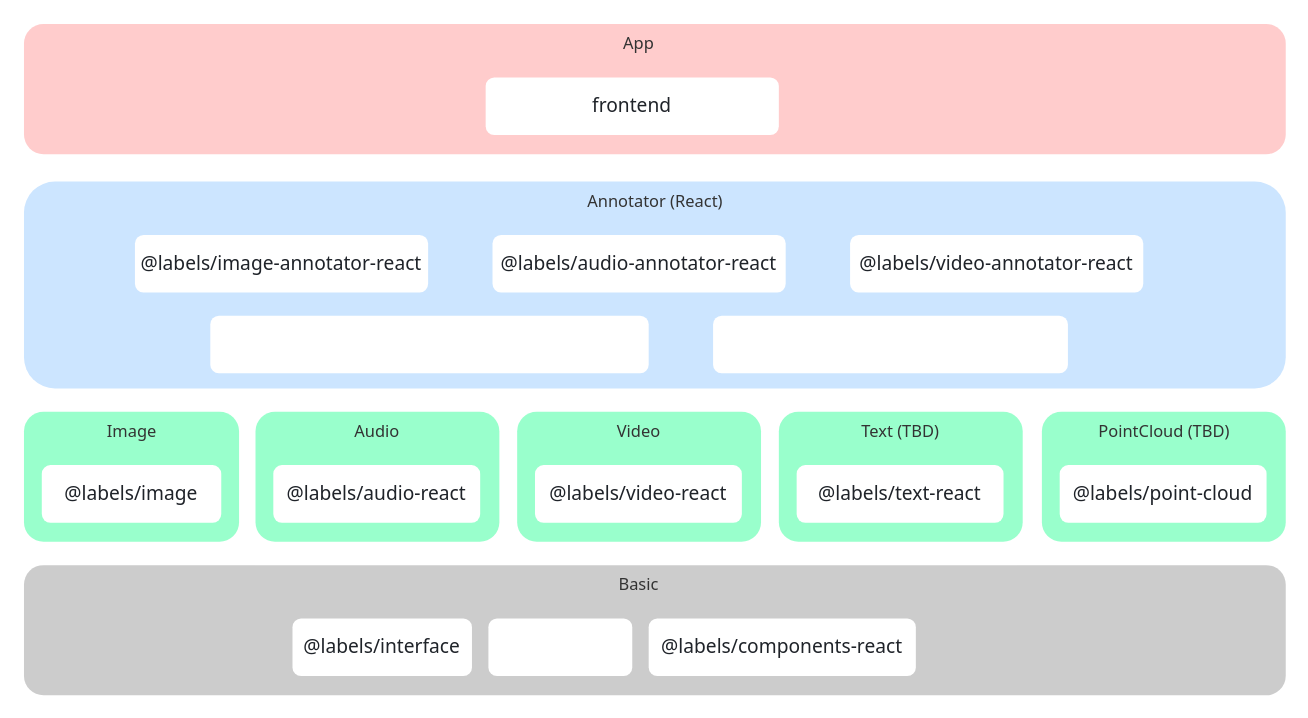
Some shapes in this 1308 by 718 pixel diagram are drawn without their labels. The centre of each missing label's shape, as x and y in pixels:
"@labels/point-cloud-annotator-react (TBD)" goes at point (429, 344).
"@labels/text-annotator-react (TBD)" goes at point (889, 344).
"@labels/utils" goes at point (560, 646).
